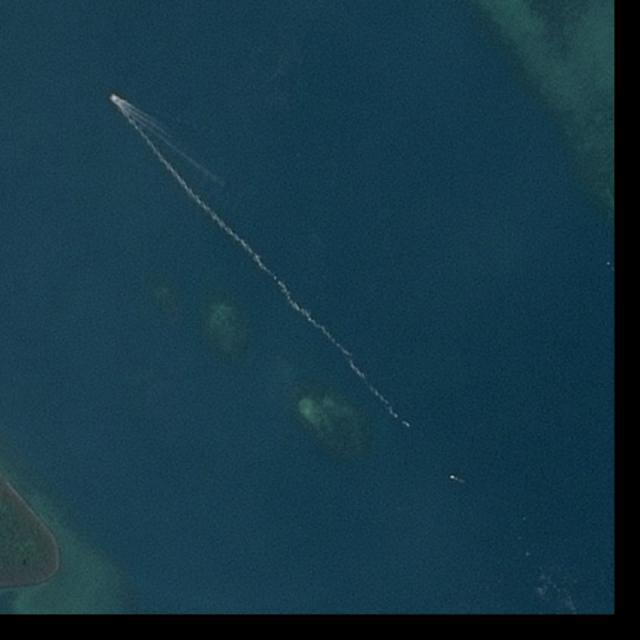ship: (110, 94, 118, 102)
